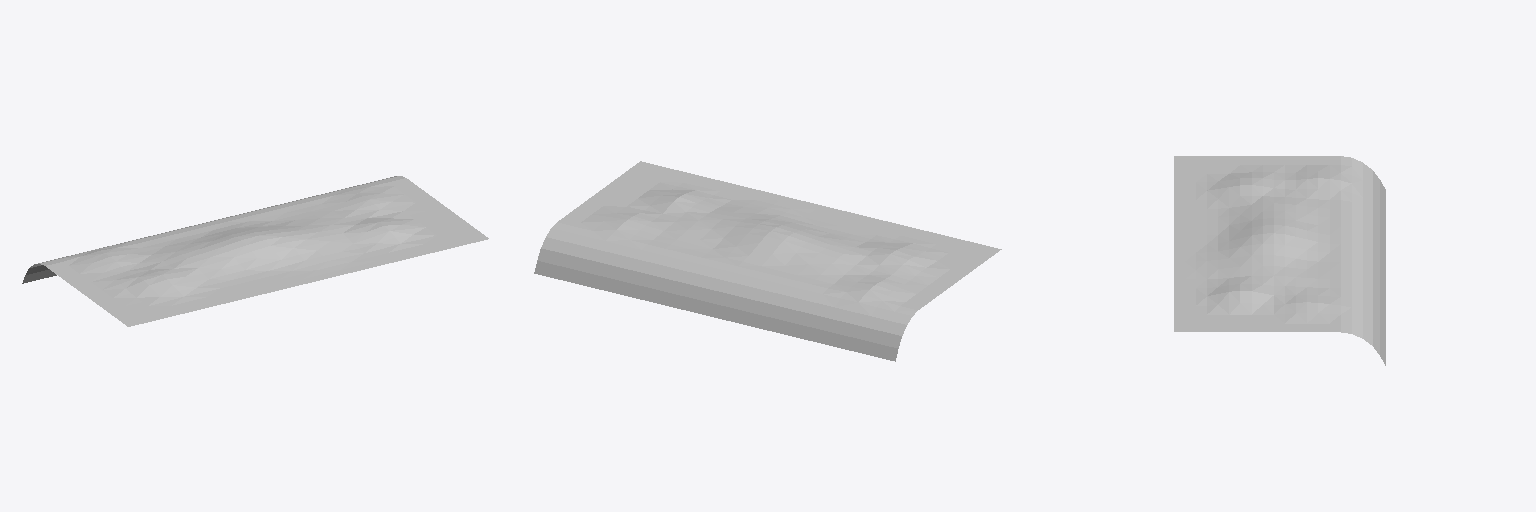
Rendered from groundBack3.obj.
3 renders of one model, left to right at view 1: azimuth 30°, elevation 25°; view 2: azimuth 150°, elevation 25°; view 3: azimuth 270°, elevation 25°, orthographic.
Parts seen in each view (by area): view 1: pPlane1; view 2: pPlane1; view 3: pPlane1.
Part boxes in pixels (left/top/right/bottom): pPlane1: left=22, top=176, right=488, bottom=326; pPlane1: left=534, top=161, right=1001, bottom=361; pPlane1: left=1174, top=156, right=1385, bottom=365.
Bounding box in the file's own units: 15 × 1.81 × 7.64.